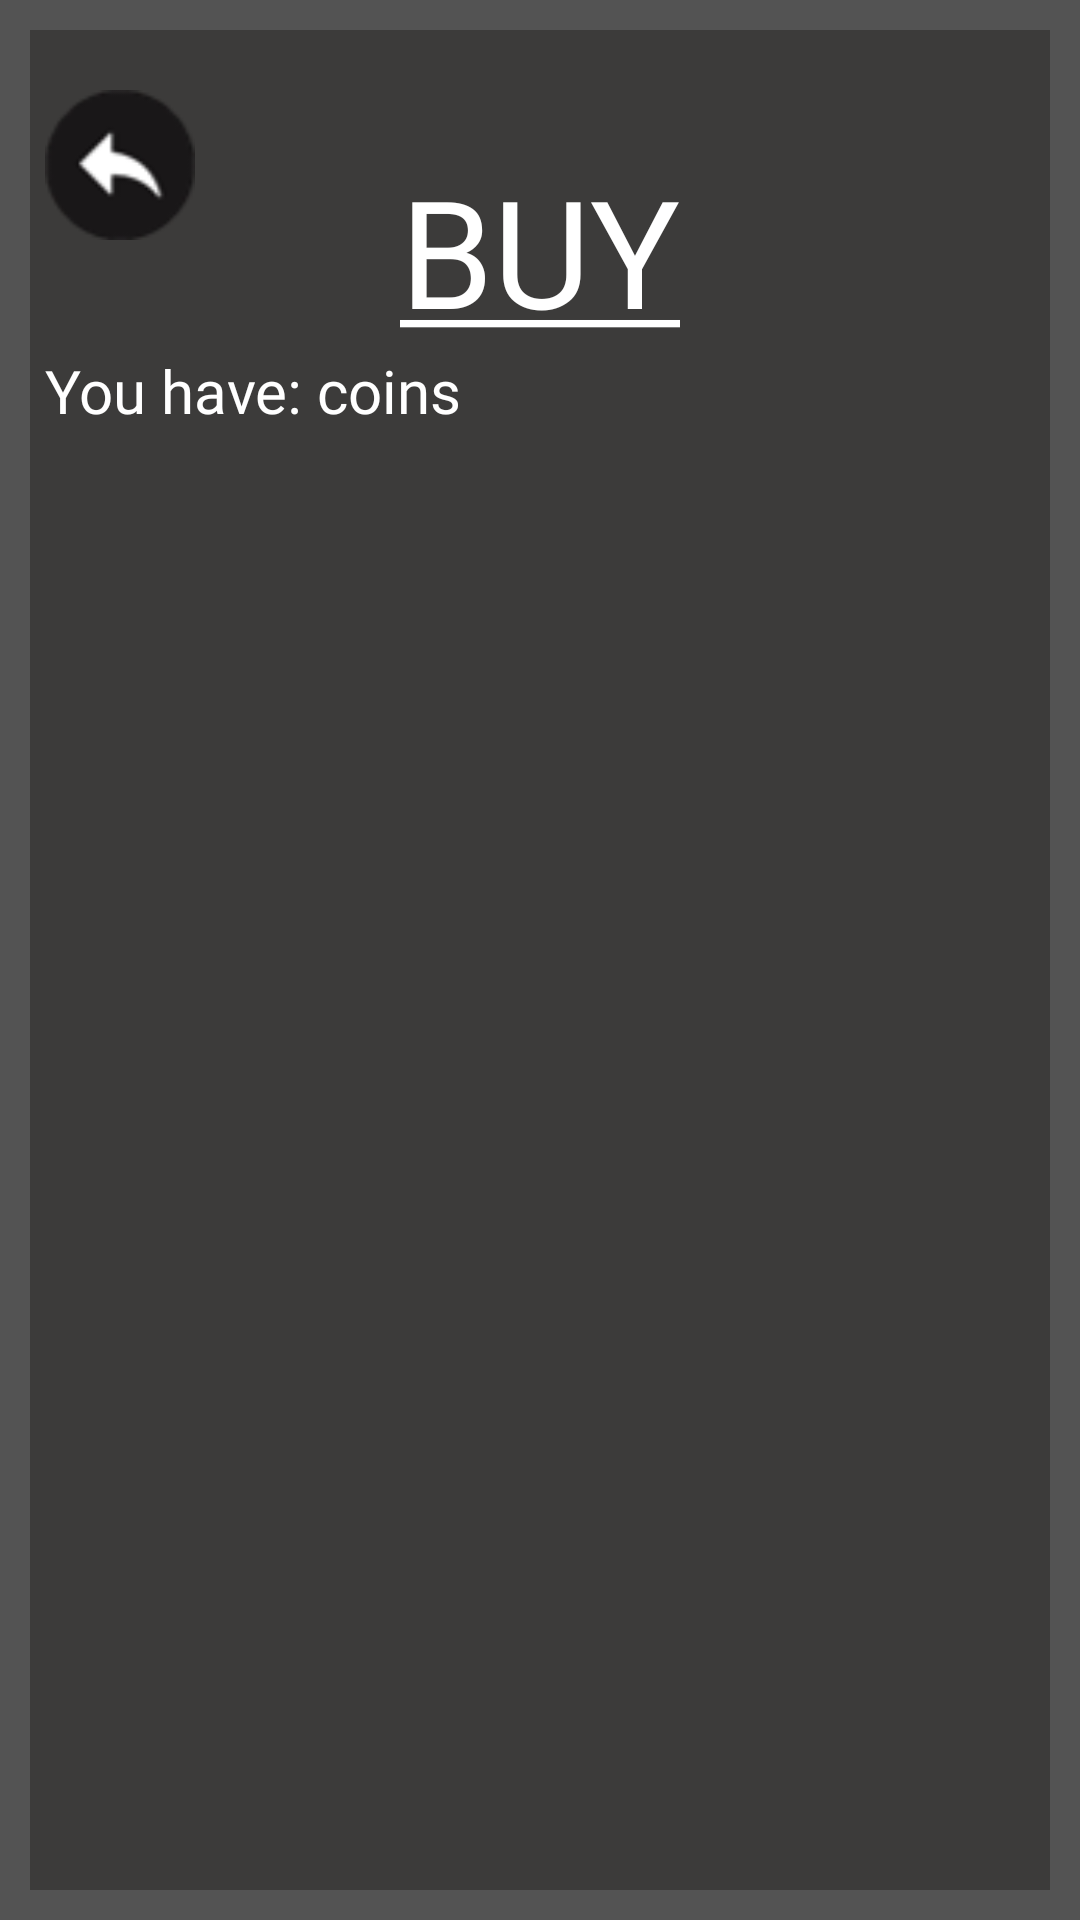

Locate icon controls on the screen. Image size 1080 x 1920, boxes as (x1, y1, x2, y2).
go back: (47, 90, 195, 240)
